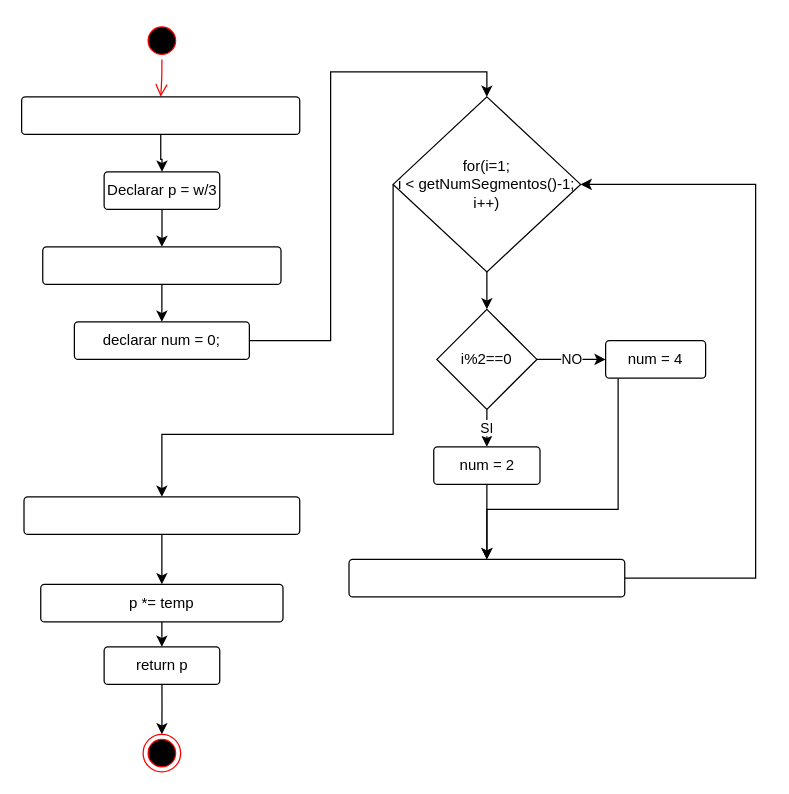
The diagram is 789 pixels wide and 794 high, and some of its shapes have lost their labels. Here are the shapes that lost their labels. From the top down, the centre of each, then its label:
At pixel 160 115: "Declarar w = getX()/getNumSegmentos()".
At pixel 161 265: "Declarar temp = tDistribution(0)".
At pixel 161 515: "temp += tDistribution(getX())".
At pixel 486 577: "temp += num * tDistribution(i * w)".
